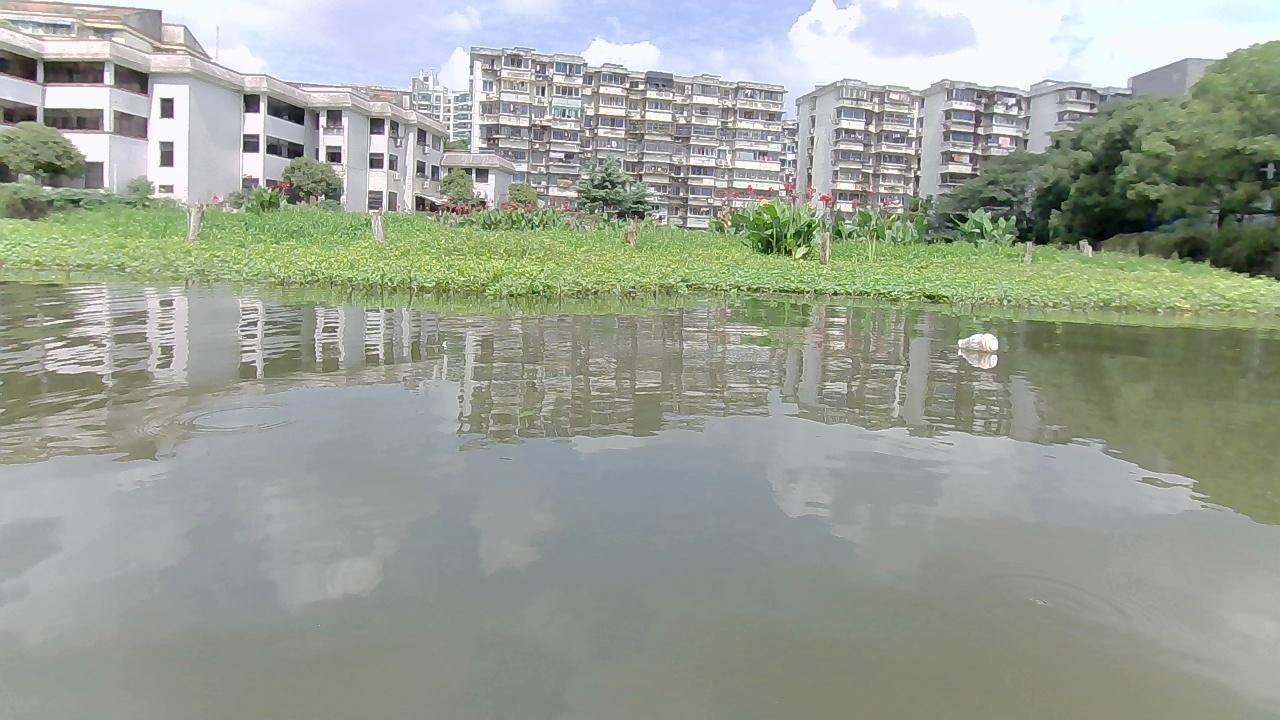bottle: (957, 331, 999, 350)
